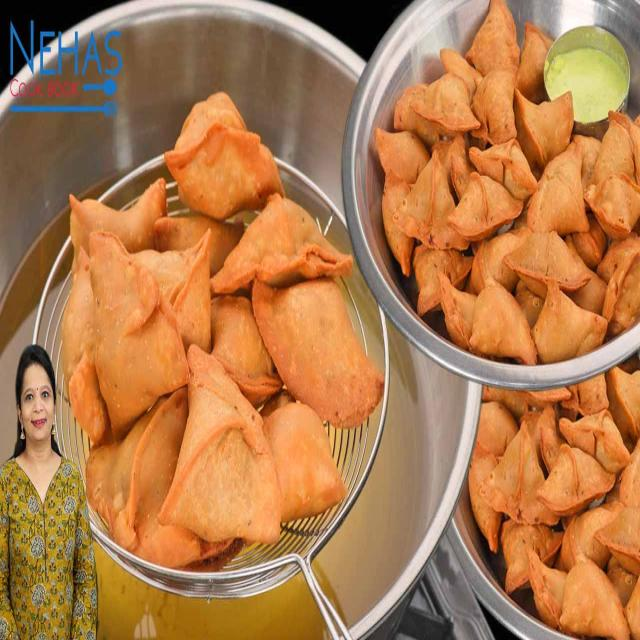SAMOSA: (375, 0, 640, 364), (468, 367, 640, 639), (160, 346, 344, 542), (64, 226, 209, 433), (86, 388, 232, 567), (252, 280, 384, 428), (165, 92, 282, 220), (211, 194, 352, 292), (210, 295, 281, 405), (70, 178, 167, 252), (432, 172, 522, 248), (532, 280, 608, 363), (394, 73, 480, 145), (469, 278, 536, 364), (527, 143, 589, 235), (514, 90, 574, 169), (464, 0, 520, 76), (374, 128, 430, 183)
